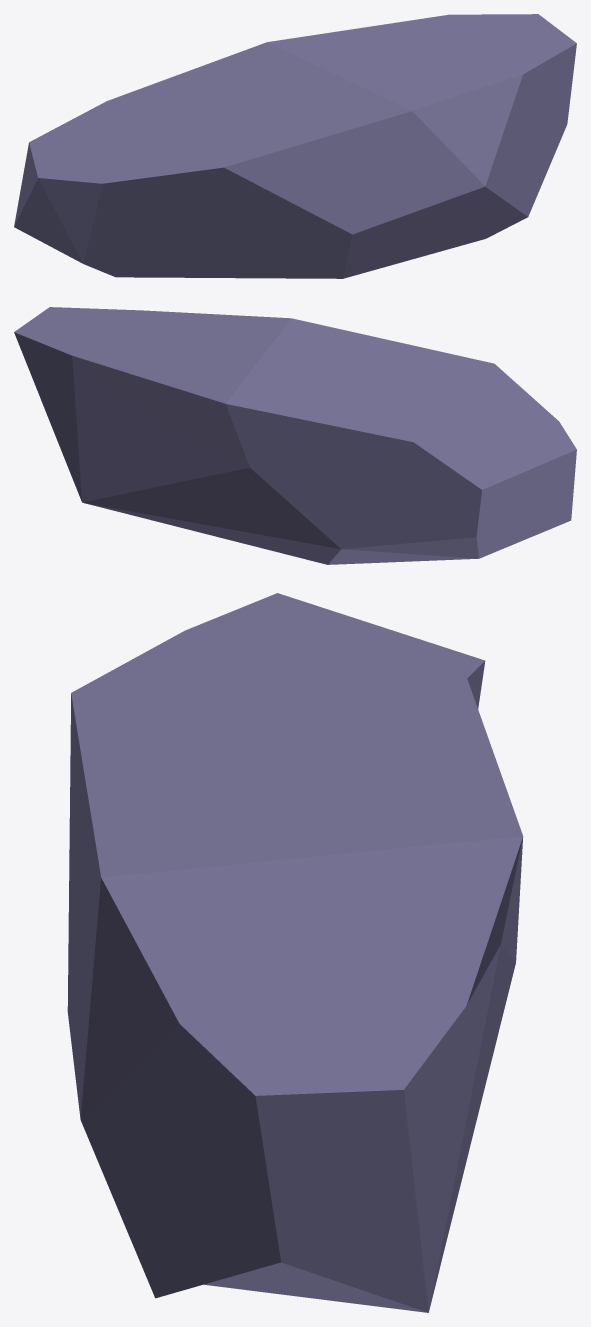
The model's file is Rock_table.glb.
3 renders of one model, top to bottom at view 1: azimuth 30°, elevation 25°; view 2: azimuth 150°, elevation 25°; view 3: azimuth 270°, elevation 25°, orthographic. The views are drawn at different scales.
Visible parts, largest first — view 1: Rock_table-col; view 2: Rock_table-col; view 3: Rock_table-col.
Boxes of the visible parts, <box> form: Rock_table-col: <box>14,14,576,278</box>; Rock_table-col: <box>14,307,576,564</box>; Rock_table-col: <box>67,593,523,1312</box>.
Bounding box in the file's own units: 3.36 × 0.9436 × 1.22.
